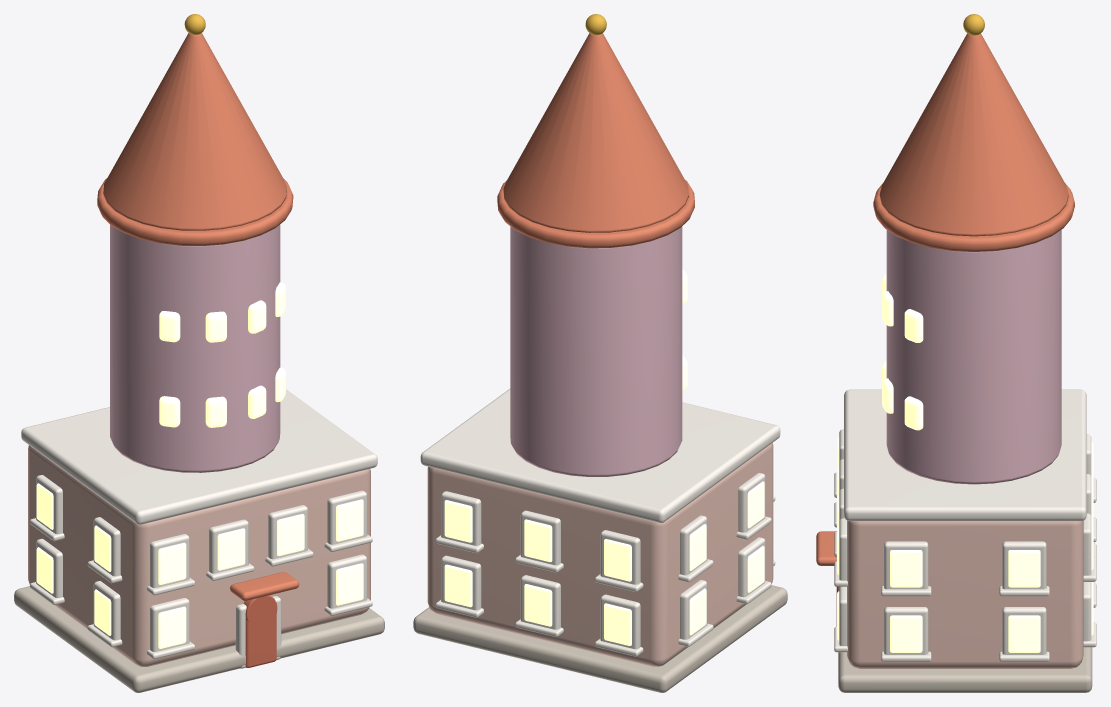
3 views of the same model, side by side, from view 1: azimuth 30°, elevation 25°; view 2: azimuth 150°, elevation 25°; view 3: azimuth 270°, elevation 25° (orthographic). The views are drawn at different scales.
Parts seen in each view (by area): view 1: Cube; view 2: Cube; view 3: Cube.
Part boxes in pixels (x1,y1,x2,y2): Cube: (14,14,384,692); Cube: (413,14,787,692); Cube: (816,14,1096,692).
Size of the model in its own units: 0.699 by 1.56 by 0.6395.
